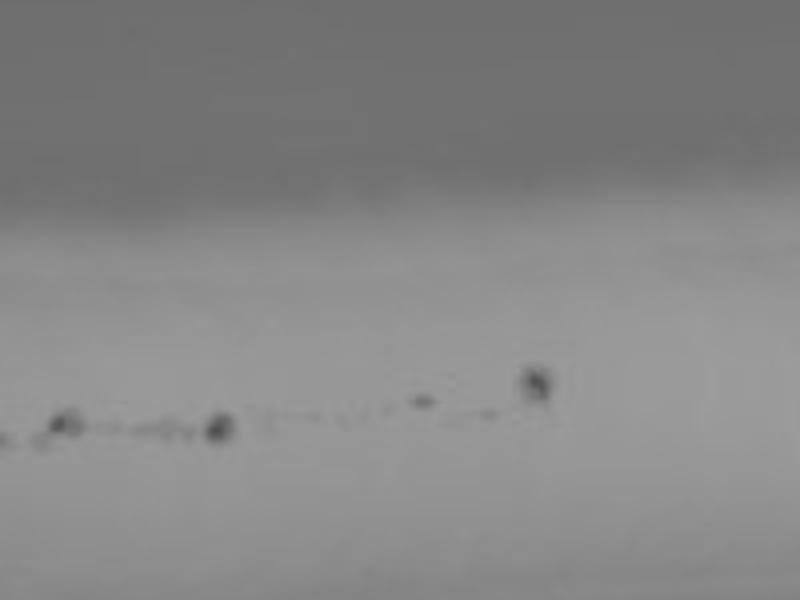defect: (517, 359, 555, 403), (203, 411, 236, 447), (46, 411, 88, 439), (131, 418, 171, 441), (471, 403, 505, 427), (403, 389, 436, 413), (26, 432, 56, 458), (89, 417, 119, 436), (1, 431, 18, 459), (178, 420, 197, 445)
